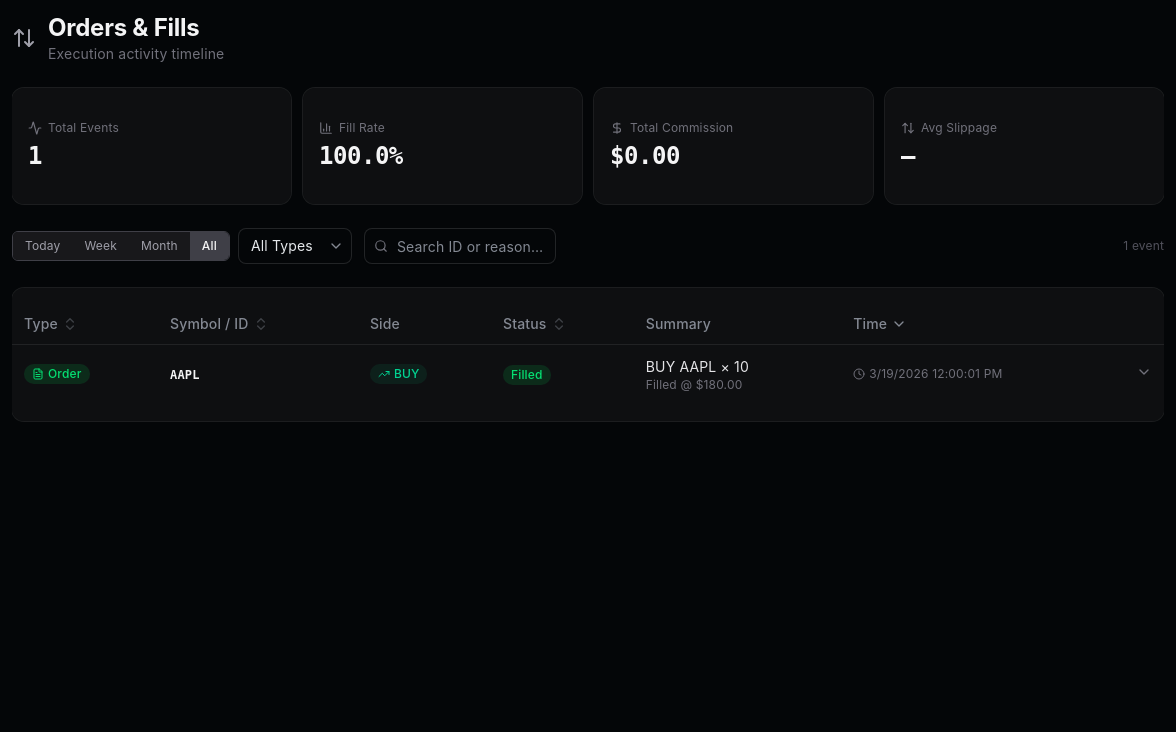
Test: OrdersPage › type filter changes filtered results
The width and height of the screenshot is (1176, 732).
Select "Fills" in the dropdown named "Filter by event type" at (295, 246), box [238,228,352,264]
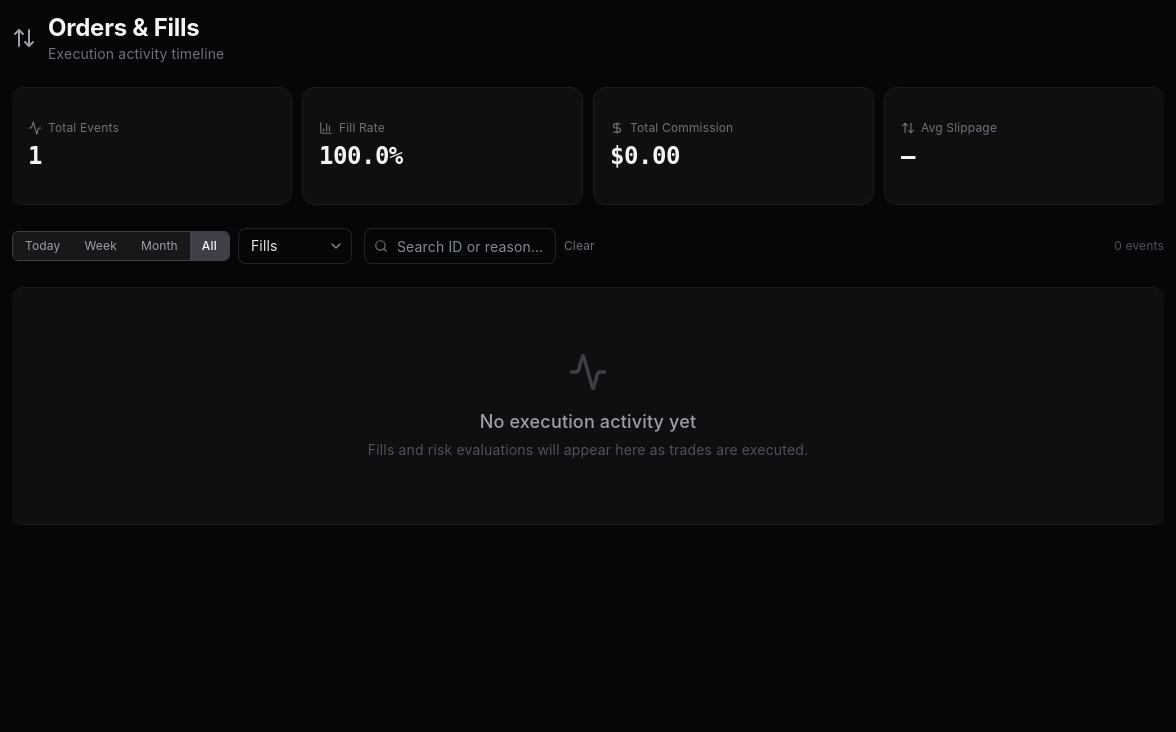
Expected: the heading "No execution activity yet" is shown, [480,411,696,432]
